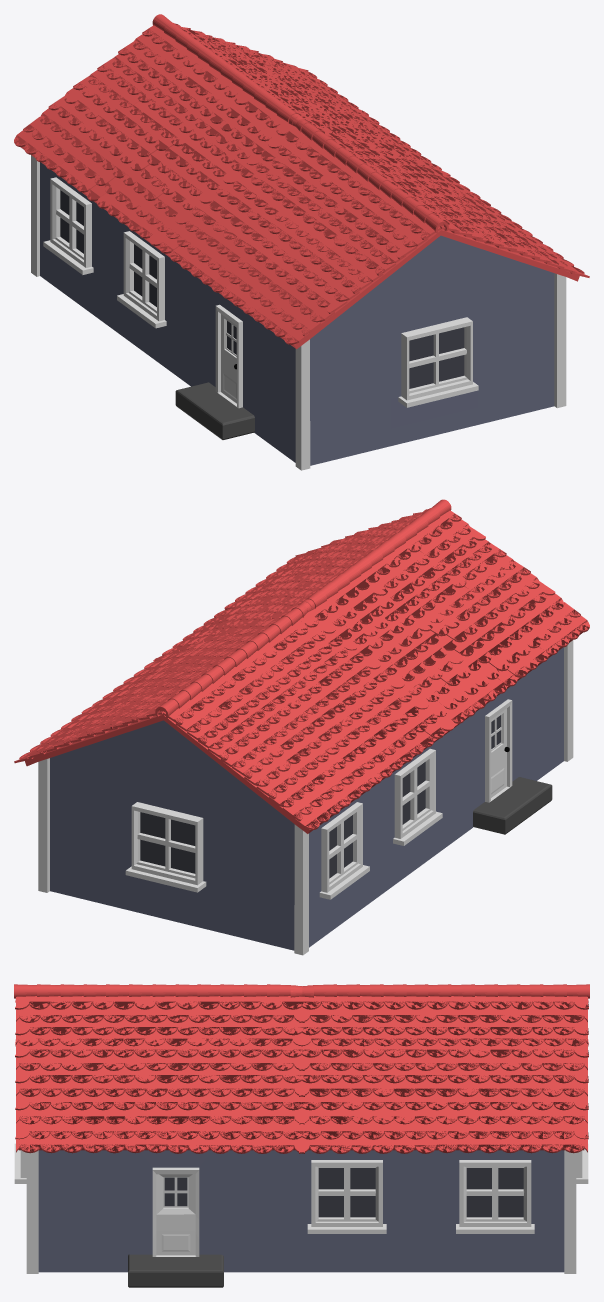
File: green_house.fbx
3 renders of one model, top to bottom at view 1: azimuth 30°, elevation 25°; view 2: azimuth 150°, elevation 25°; view 3: azimuth 270°, elevation 25°, orthographic.
Parts seen in each view (by area): view 1: house.003; view 2: house.003; view 3: house.003.
Boxes of the visible parts, x1,y1,x2,y2 form: house.003: (14, 14, 589, 470); house.003: (14, 499, 589, 955); house.003: (14, 984, 589, 1287).
Size of the model in its own units: 984 by 643 by 1496.
